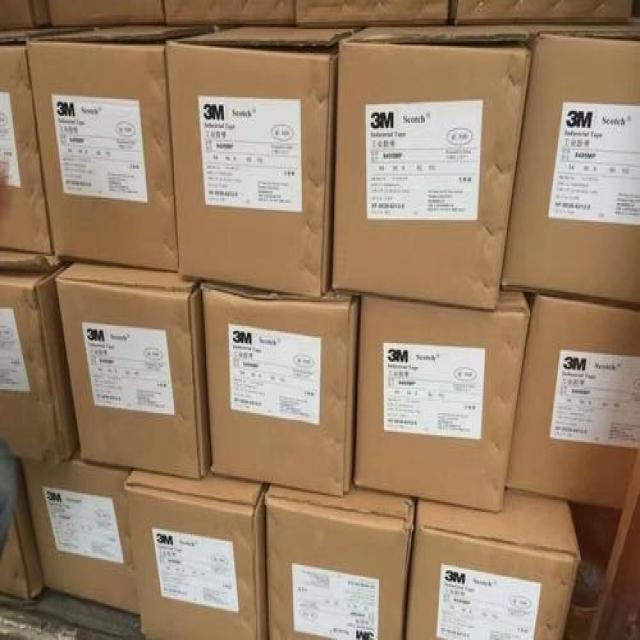box: (331, 24, 533, 310), (165, 25, 359, 298), (26, 24, 227, 271), (354, 291, 531, 514), (502, 21, 639, 305), (200, 280, 359, 496), (55, 262, 211, 480), (506, 292, 639, 508), (405, 491, 579, 638), (0, 25, 109, 258), (124, 470, 268, 638), (263, 483, 414, 638), (21, 447, 139, 615), (0, 249, 79, 462), (0, 484, 44, 598), (449, 0, 633, 23), (295, 0, 452, 26), (163, 0, 295, 26), (48, 0, 166, 26)
